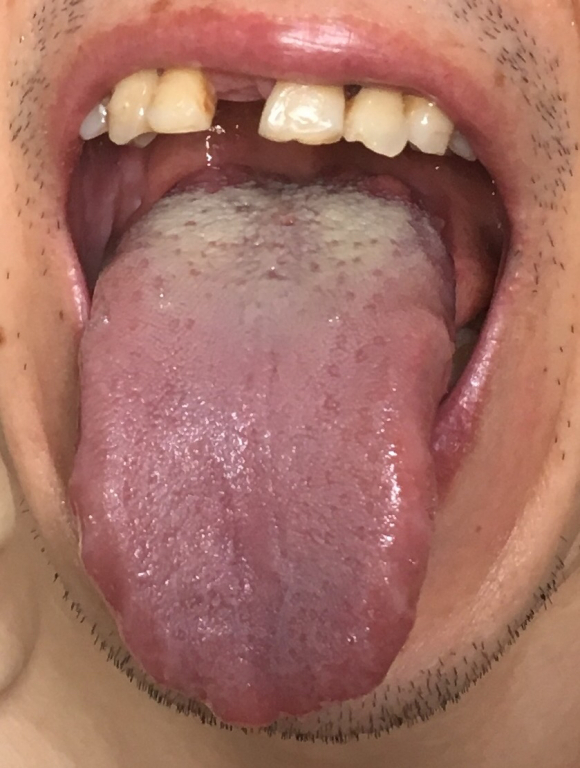baitaishe: (68, 166, 455, 726)
hongshe: (68, 166, 455, 726)
